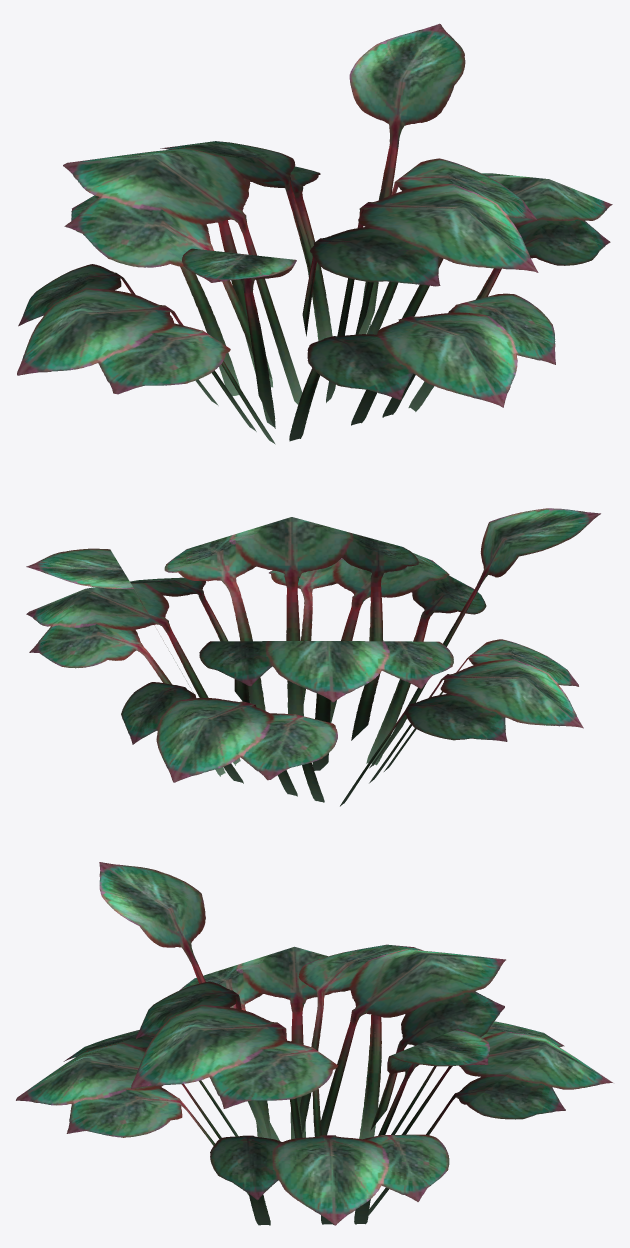
File: leaf_dath_lessetplant_l1.fbx
3 views of the same model, one above another, from view 1: azimuth 30°, elevation 25°; view 2: azimuth 150°, elevation 25°; view 3: azimuth 270°, elevation 25° (orthographic). The views are drawn at different scales.
Visible parts, largest first — view 1: mesh_node; view 2: mesh_node; view 3: mesh_node.
Boxes of the visible parts, left/top/right/bottom form: mesh_node: left=17, top=23, right=612, bottom=444; mesh_node: left=26, top=508, right=600, bottom=806; mesh_node: left=16, top=862, right=612, bottom=1225.
Size of the model in its own units: 3.16 by 1.35 by 2.98.
